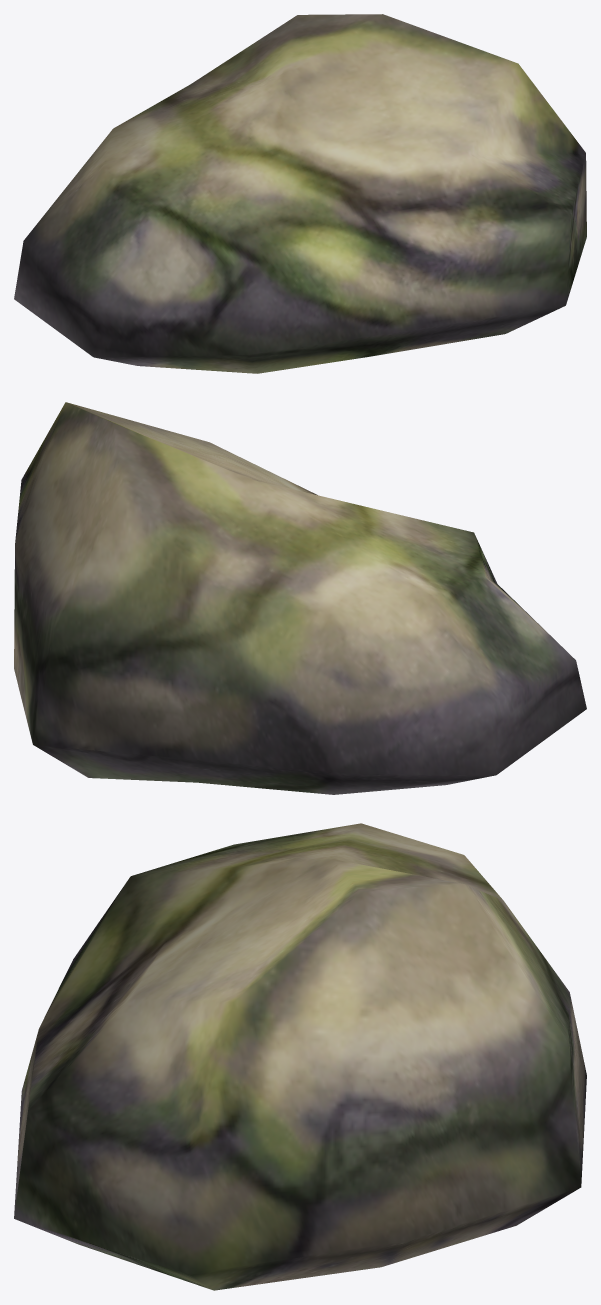
File: rock small.FBX
3 renders of one model, top to bottom at view 1: azimuth 30°, elevation 25°; view 2: azimuth 150°, elevation 25°; view 3: azimuth 270°, elevation 25°, orthographic. The views are drawn at different scales.
Visible parts, largest first — view 1: rock small; view 2: rock small; view 3: rock small.
Boxes of the visible parts, x1,y1,x2,y2 form: rock small: [14, 14, 586, 373]; rock small: [14, 402, 586, 794]; rock small: [14, 823, 586, 1290].
Size of the model in its own units: 1.64 by 0.8608 by 1.21.
1 material, 1 textured.
